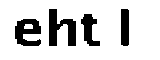e: (9, 16, 41, 51)
h: (46, 7, 79, 50)
l: (116, 4, 138, 51)
t: (79, 11, 103, 50)
